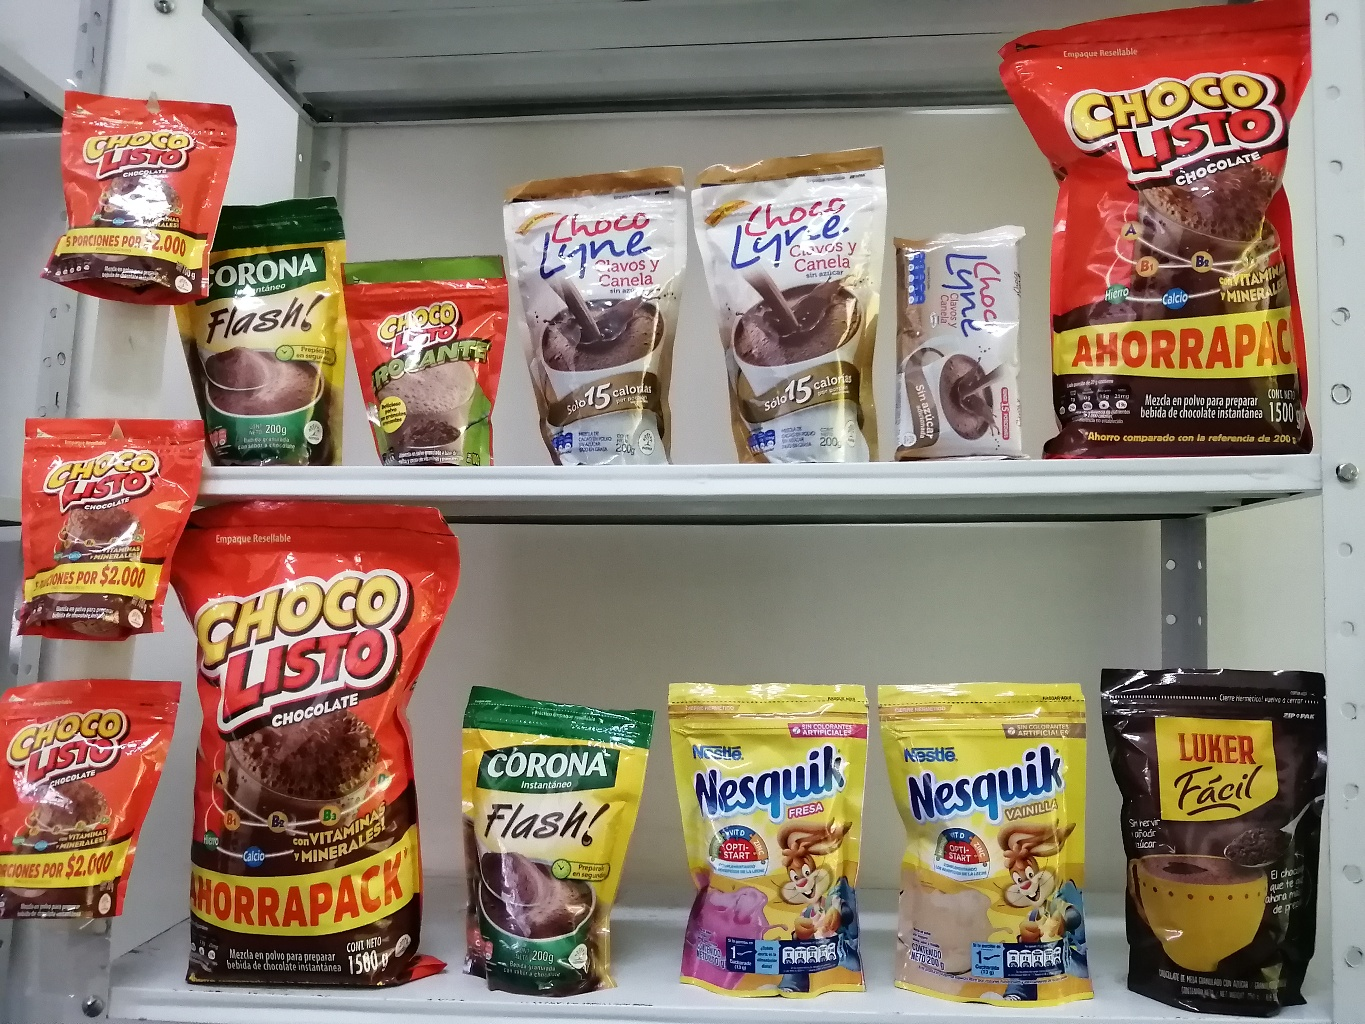COL0170102DYP10000: (353, 257, 521, 470)
COL0170103DYP1,500: (989, 5, 1330, 459)
COL0170305DYP20000: (646, 649, 875, 1000)
COL0170306DYP20000: (881, 664, 1111, 1004)
